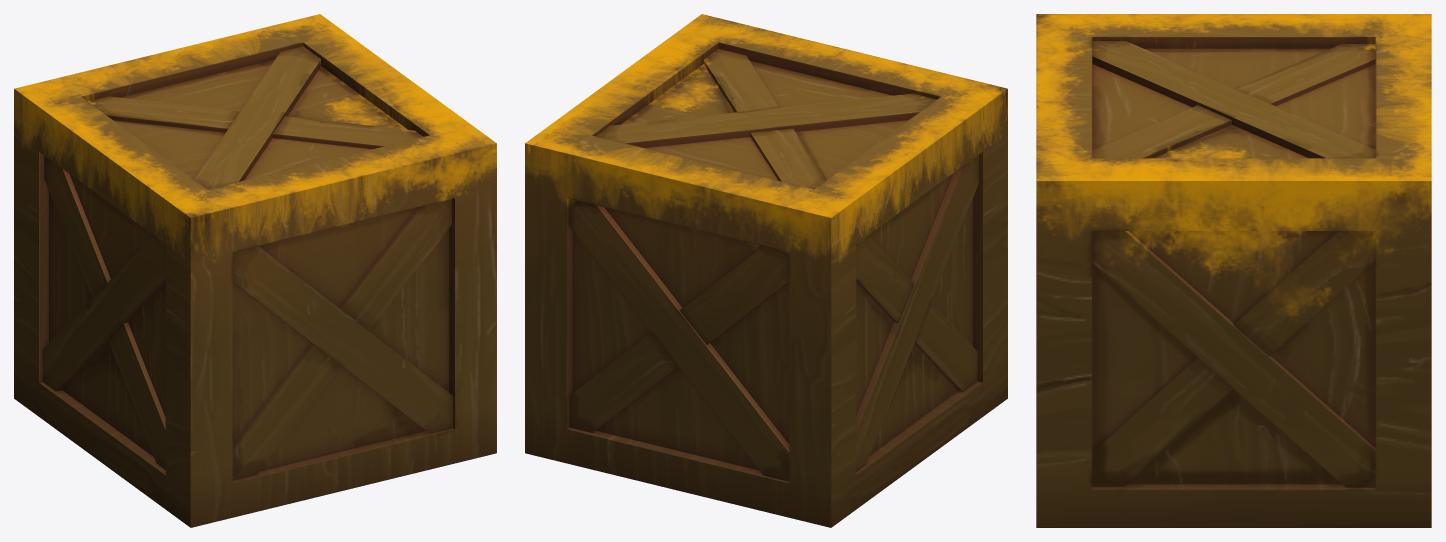
The model's file is Crate1.glb.
The picture shows the model from 3 angles, left to right: view 1: azimuth 30°, elevation 25°; view 2: azimuth 150°, elevation 25°; view 3: azimuth 270°, elevation 25°; orthographic projection. The views are drawn at different scales.
Parts seen in each view (by area): view 1: Crate; view 2: Crate; view 3: Crate.
Part boxes in pixels (x1,y1,x2,y2): Crate: (14, 14, 496, 527); Crate: (525, 14, 1007, 527); Crate: (1036, 14, 1431, 527).
Bounding box in the file's own units: 0.617 × 0.597 × 0.617.
Materials: 1 (1 with a texture image).
